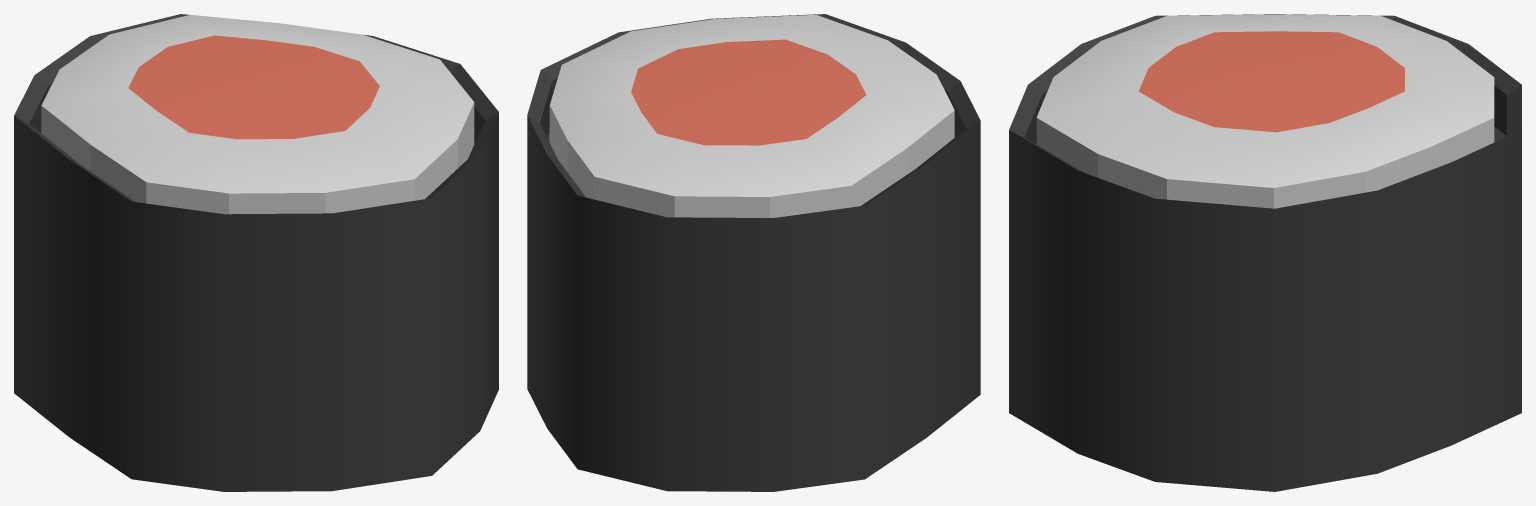
Rendered from Sushi4.fbx.
3 renders of one model, left to right at view 1: azimuth 30°, elevation 25°; view 2: azimuth 150°, elevation 25°; view 3: azimuth 270°, elevation 25°, orthographic. The views are drawn at different scales.
Parts seen in each view (by area): view 1: sushi4; view 2: sushi4; view 3: sushi4.
Boxes of the visible parts, x1,y1,x2,y2 form: sushi4: (14,14,498,491); sushi4: (527,14,980,491); sushi4: (1009,14,1521,491).
Size of the model in its own units: 3.32 by 2.61 by 3.7.
